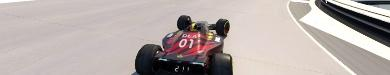Car: (134, 15, 233, 74)
Solid White and black: (285, 0, 389, 74)
